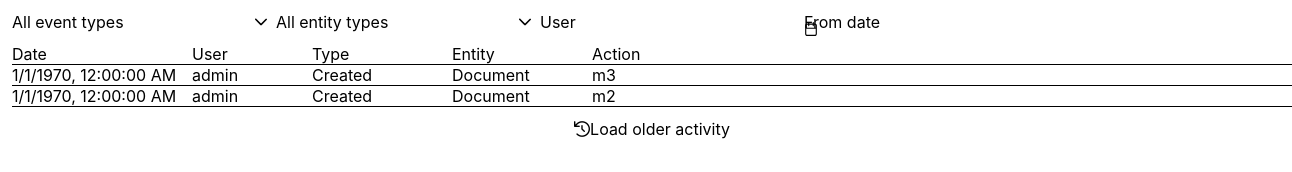
Test: ActivityTable — global mode (#177) › appends the older page when the filter set is UNCHANGED (the guard is not over-eager)
The width and height of the screenshot is (1292, 172).
Click the button with class "activity-load-older" at (652, 129), box [574, 119, 730, 139]
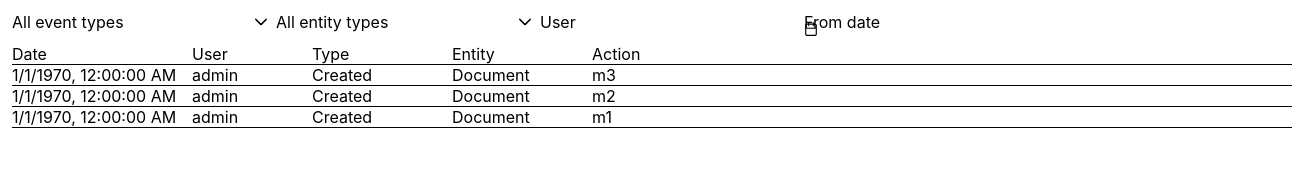
Check: the number of elements with class "activity-type" is 3, box [312, 65, 372, 85]; [312, 86, 372, 106]; [312, 107, 372, 127]
